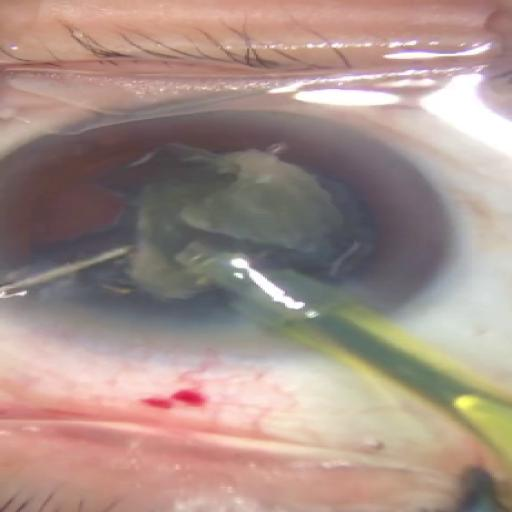catarata: (40, 150, 377, 322)
cornea: (0, 108, 442, 344)
pupil: (24, 140, 398, 327)
